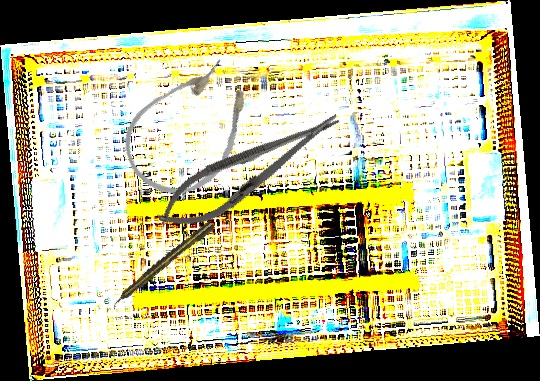Cannula: (106, 41, 276, 215)
Handpiece: (107, 219, 217, 311)
Needle Holder: (147, 97, 352, 244)
